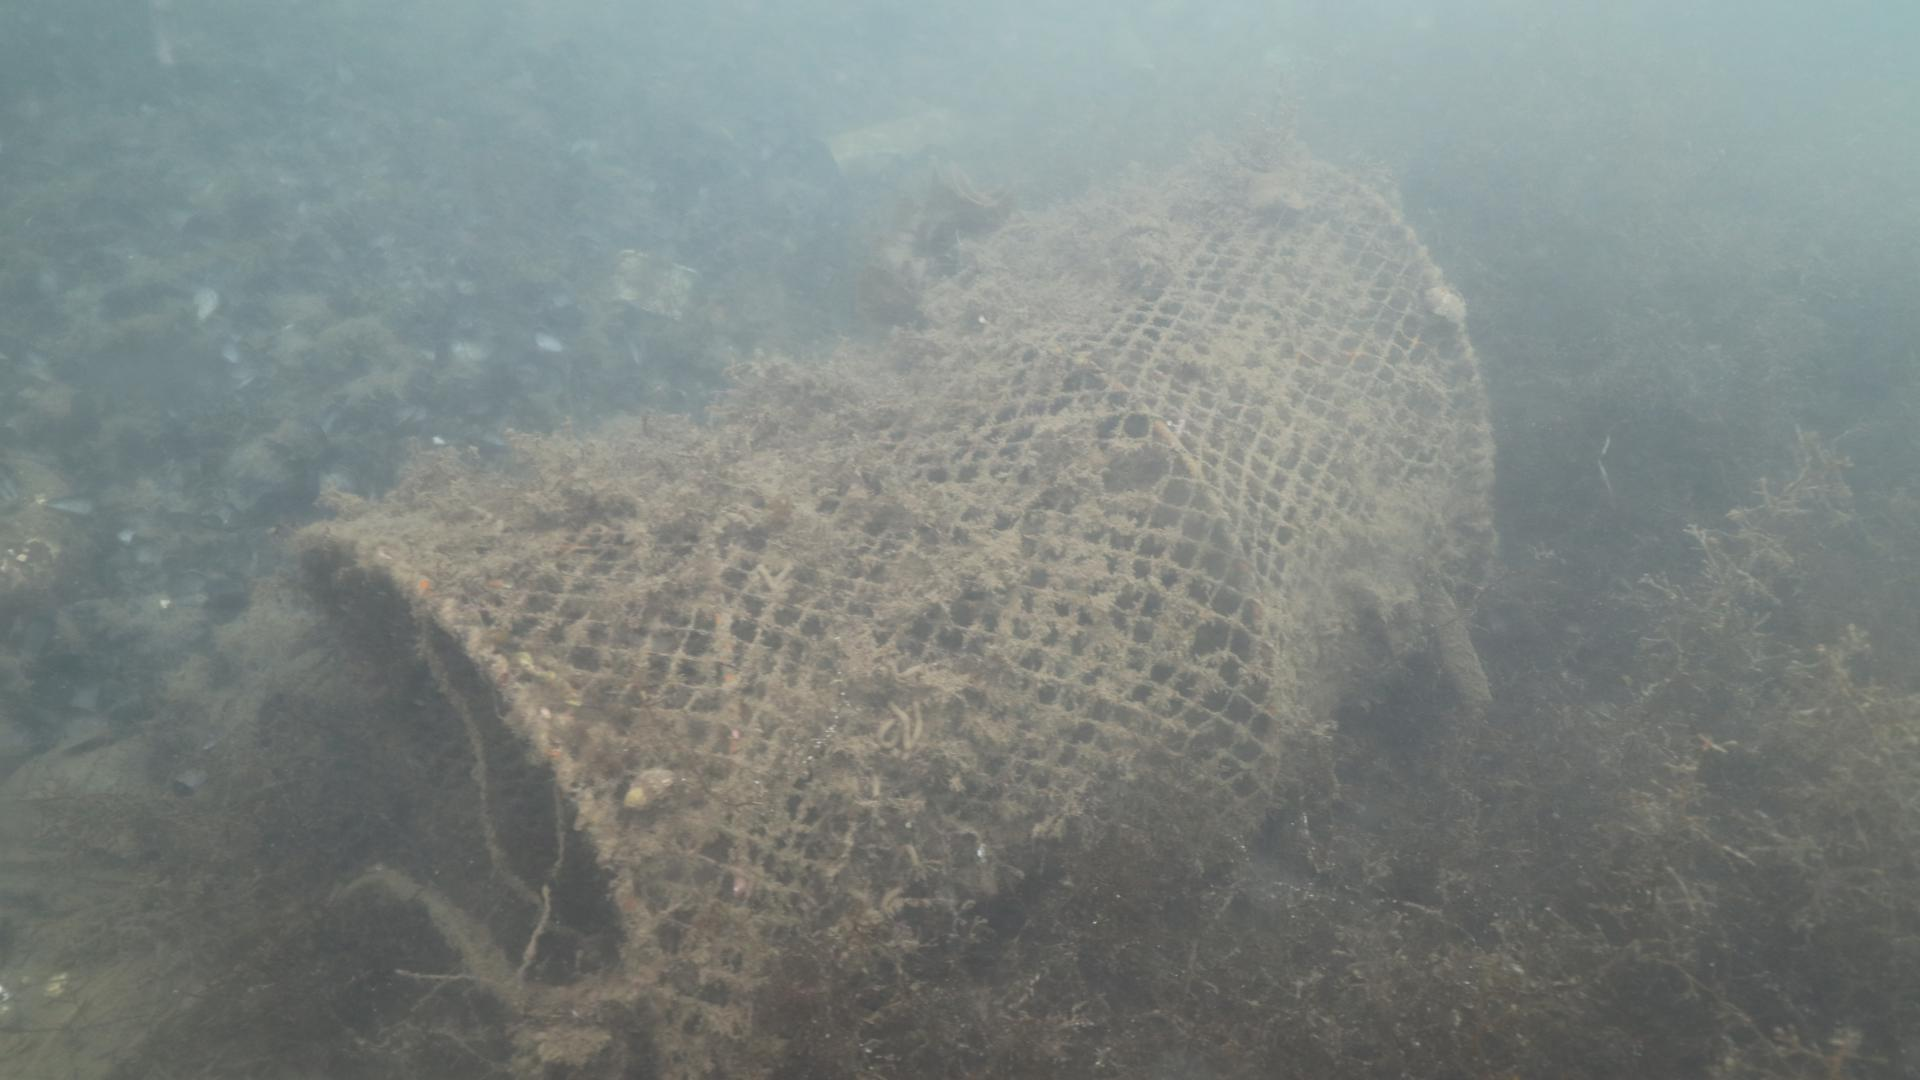spring fish trap: (278, 142, 1487, 1080)
